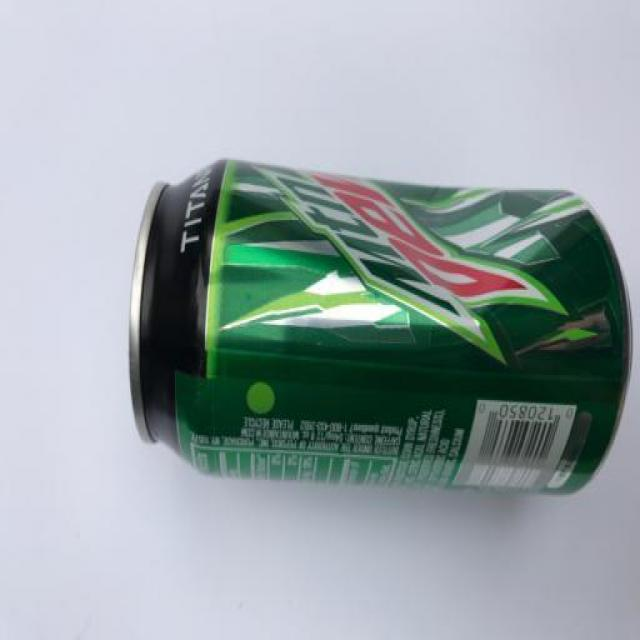metel: (141, 178, 626, 486)
